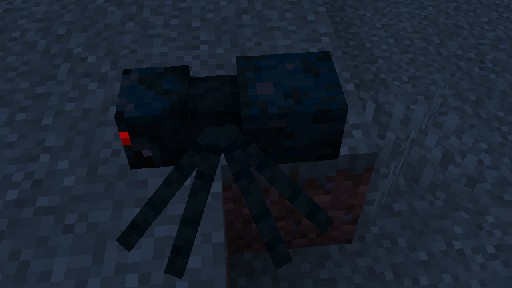cave_spider: (113, 50, 348, 278)
